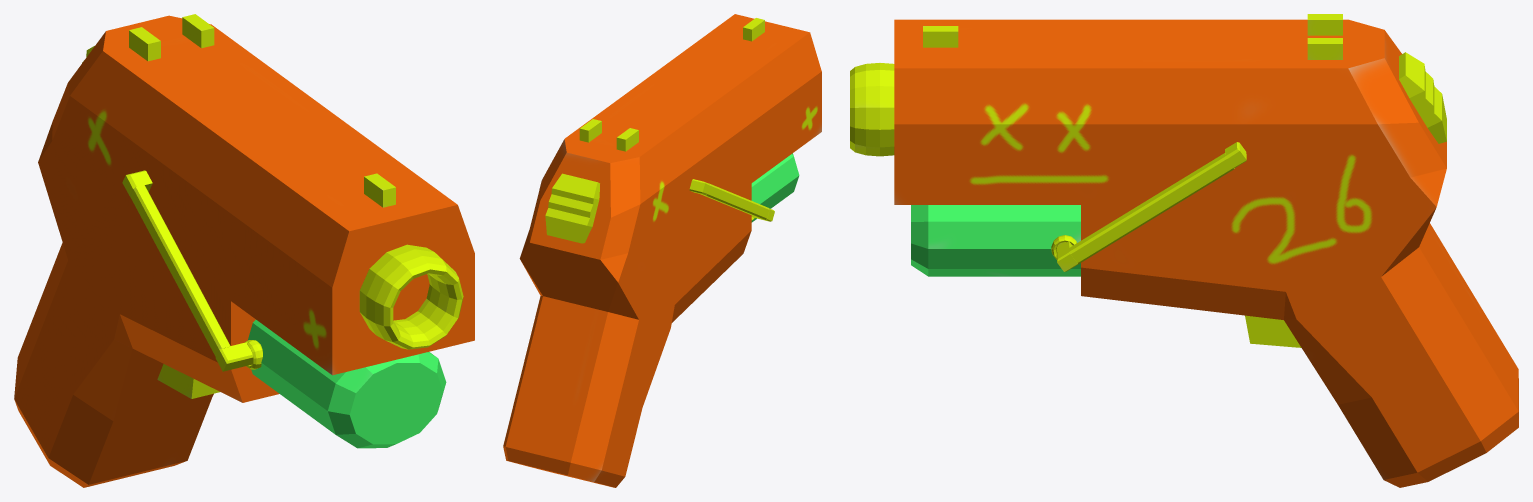
The model's file is Gun.fbx.
3 views of the same model, side by side, from view 1: azimuth 30°, elevation 25°; view 2: azimuth 150°, elevation 25°; view 3: azimuth 270°, elevation 25° (orthographic). The views are drawn at different scales.
Visible parts, largest first — view 1: MainBody, Magazine; view 2: MainBody, Magazine; view 3: MainBody, Magazine.
Boxes of the visible parts, box(x1,y1,x2,y2) form: MainBody: box(14, 14, 474, 487); Magazine: box(247, 319, 446, 448); MainBody: box(503, 14, 821, 487); Magazine: box(751, 153, 799, 222); MainBody: box(850, 14, 1518, 487); Magazine: box(911, 205, 1080, 276).
Size of the model in its own units: 25.92 by 64.31 by 88.72.
